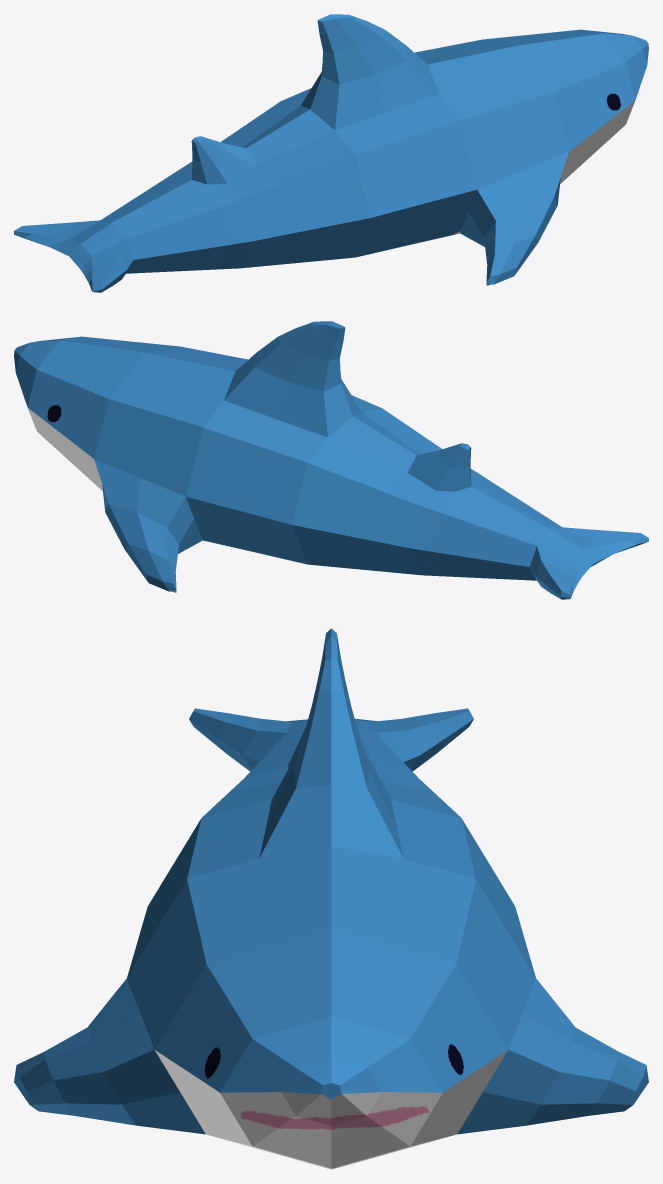
File: blahaj.glb
The picture shows the model from 3 angles, top to bottom: view 1: azimuth 30°, elevation 25°; view 2: azimuth 150°, elevation 25°; view 3: azimuth 270°, elevation 25°; orthographic projection. The views are drawn at different scales.
Visible parts, largest first — view 1: blahaj; view 2: blahaj; view 3: blahaj.
Part boxes in pixels (left/top/right/bottom): blahaj: left=14, top=14, right=648, bottom=292; blahaj: left=14, top=321, right=648, bottom=599; blahaj: left=14, top=628, right=648, bottom=1169.
Size of the model in its own units: 5.85 by 2.2 by 3.11.
1 material, 1 textured.
